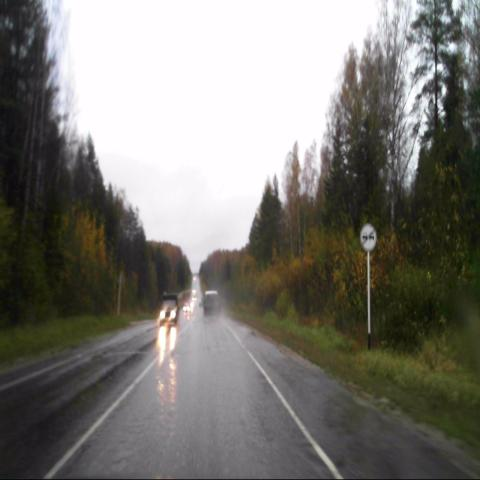3_21: (360, 223, 377, 251)
